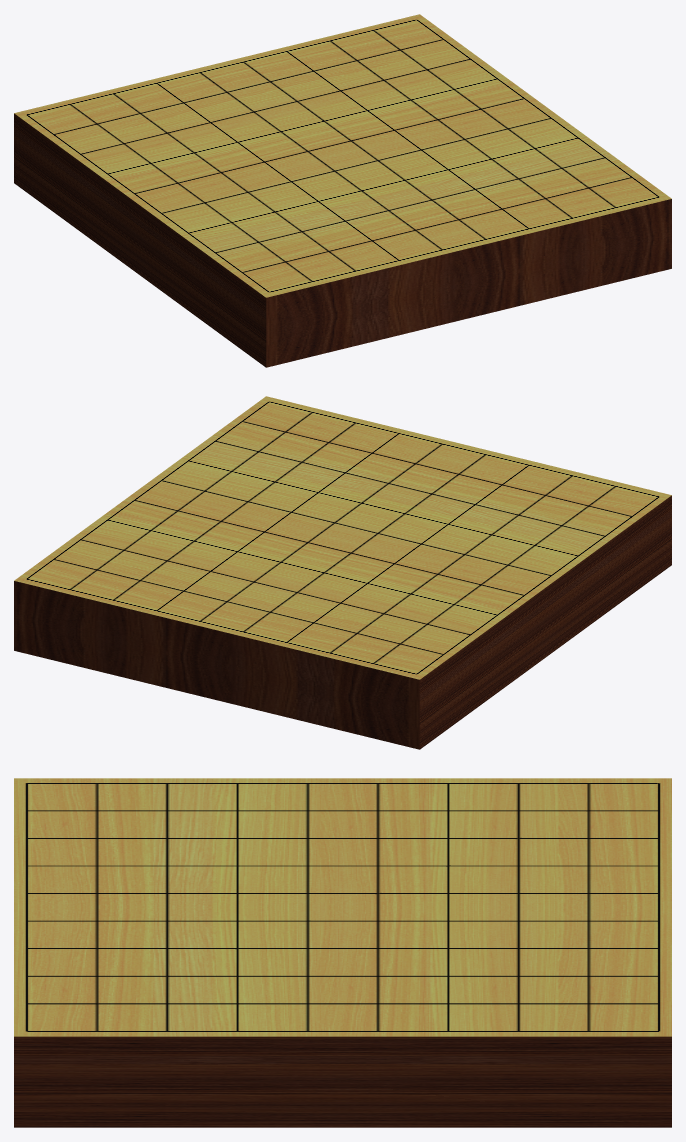
File: ShogiBoard.glb
3 views of the same model, one above another, from view 1: azimuth 30°, elevation 25°; view 2: azimuth 150°, elevation 25°; view 3: azimuth 270°, elevation 25° (orthographic). The views are drawn at different scales.
Parts seen in each view (by area): view 1: board; view 2: board; view 3: board.
Boxes of the visible parts, <box> form: board: <box>14,14,671,367</box>; board: <box>14,396,671,749</box>; board: <box>14,778,671,1127</box>.
Size of the model in its own units: 34 by 5.6 by 36.6.
2 materials, 2 textured.
